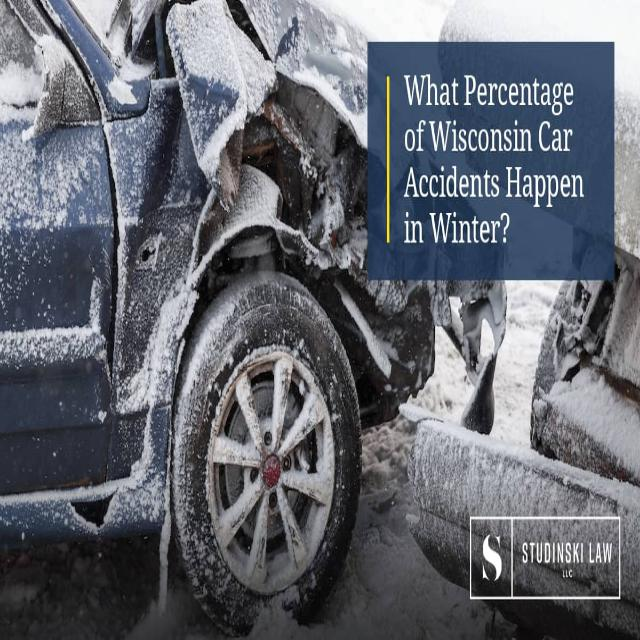Accident: (2, 0, 444, 640)
